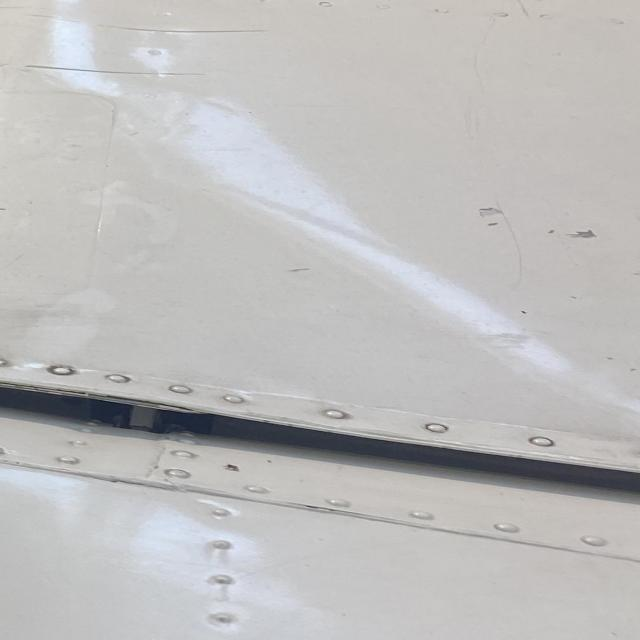Paint-off: (479, 206, 507, 217), (570, 229, 599, 238)
Scratch: (6, 4, 275, 46), (17, 62, 204, 90), (511, 0, 534, 25)
